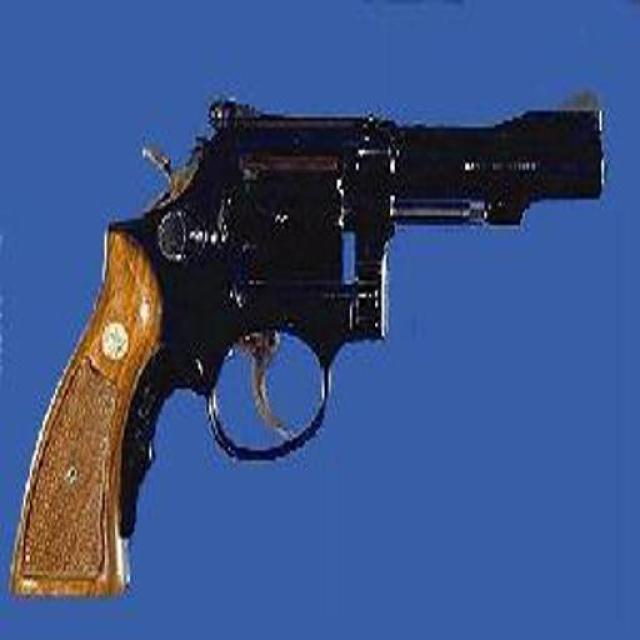pistol: (6, 88, 602, 594)
